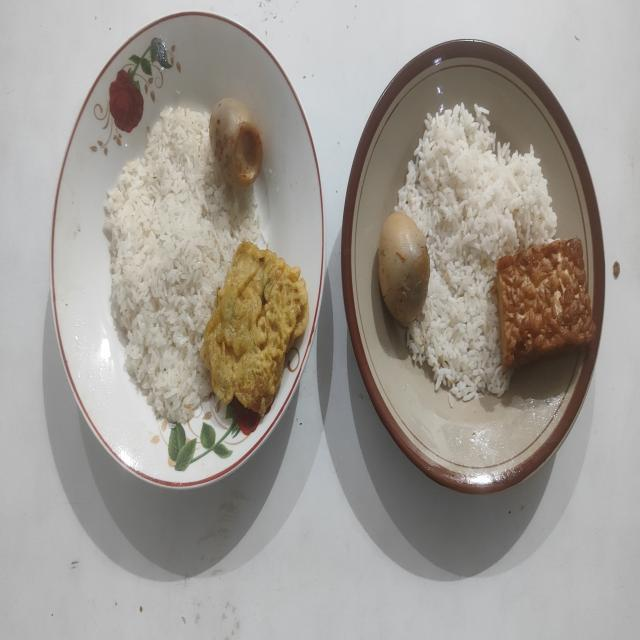nasi_putih: (104, 107, 260, 422), (394, 104, 556, 402)
tempe_goreng: (496, 238, 596, 366)
